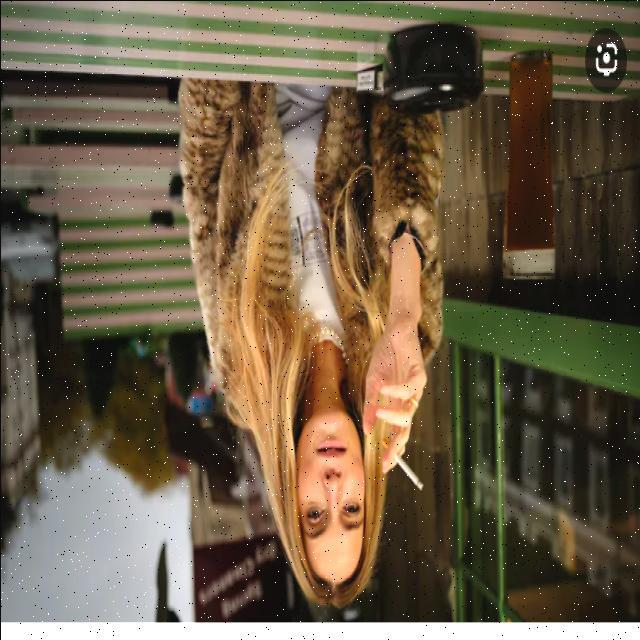face_no_mask: (291, 404, 364, 588)
